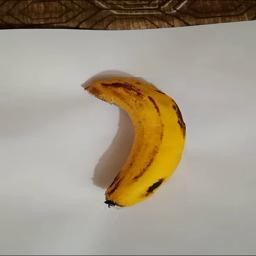Banana Semifresh: (82, 77, 187, 211)
